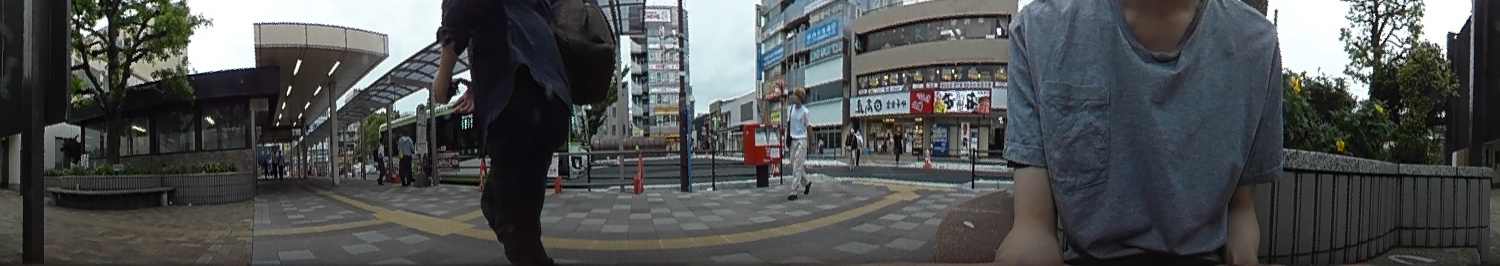difficult_person: (847, 119, 864, 168), (374, 138, 384, 181), (891, 129, 903, 161)
person: (442, 0, 595, 264), (784, 86, 814, 197), (398, 129, 415, 186)
